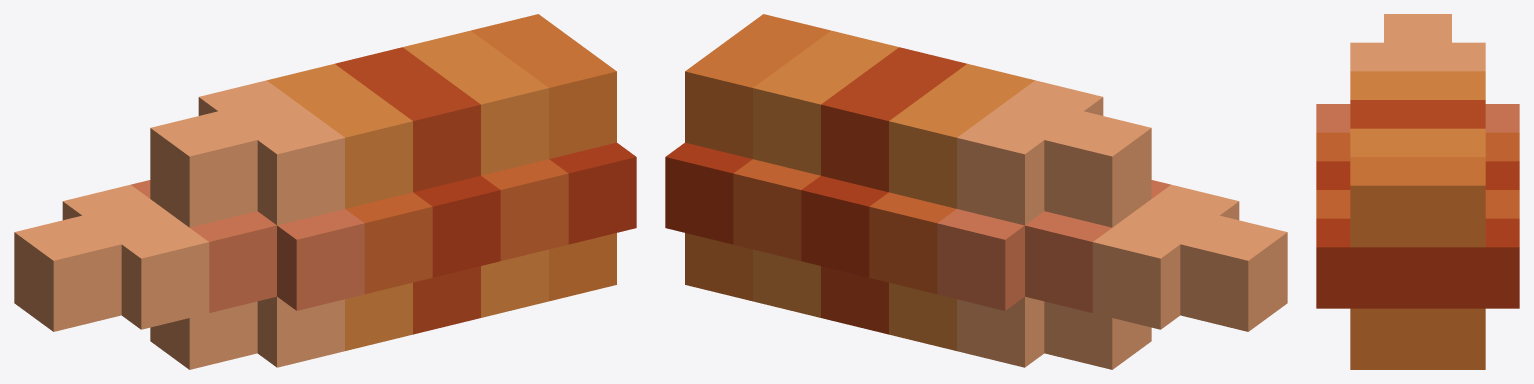
3 renders of one model, left to right at view 1: azimuth 30°, elevation 25°; view 2: azimuth 150°, elevation 25°; view 3: azimuth 270°, elevation 25°, orthographic. The views are drawn at different scales.
Visible parts, largest first — view 1: generated; view 2: generated; view 3: generated.
Part boxes in pixels (box(x1,y1,x2,y2)): generated: box(14, 14, 636, 369); generated: box(665, 14, 1287, 369); generated: box(1316, 14, 1519, 369).
Size of the model in its own units: 8 by 3 by 3.
